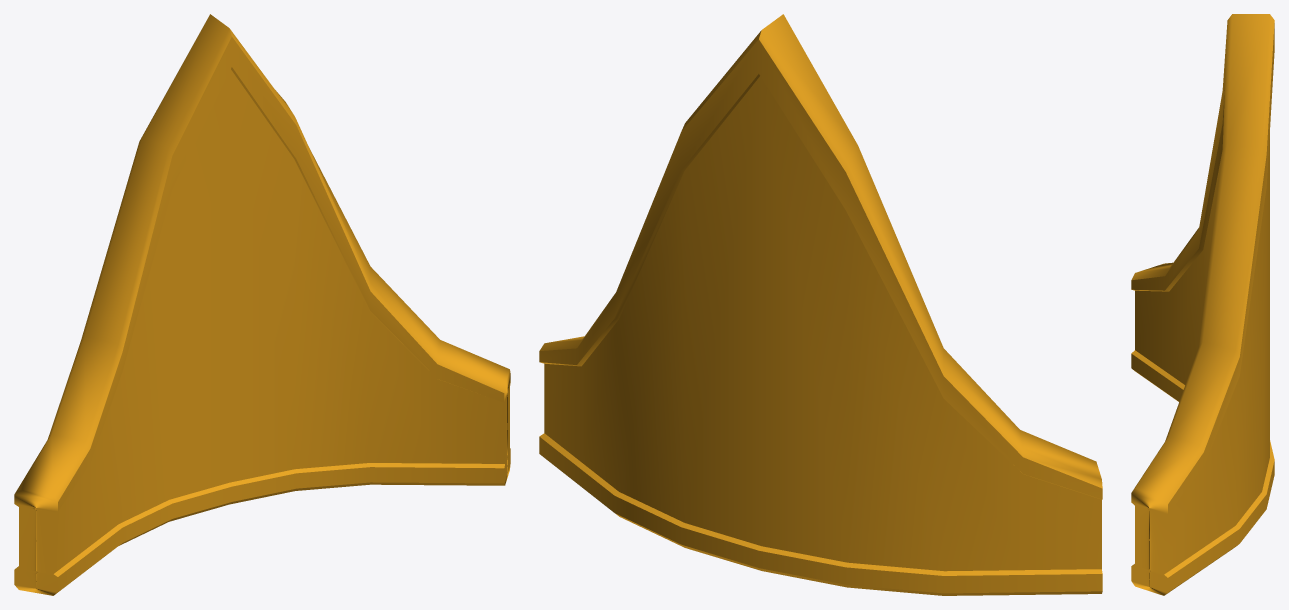
File: CrownPiece2.fbx
3 renders of one model, left to right at view 1: azimuth 30°, elevation 25°; view 2: azimuth 150°, elevation 25°; view 3: azimuth 270°, elevation 25°, orthographic. The views are drawn at different scales.
Visible parts, largest first — view 1: CrownPiece2; view 2: CrownPiece2; view 3: CrownPiece2.
Part boxes in pixels (left/top/right/bottom): CrownPiece2: left=14, top=14, right=510, bottom=595; CrownPiece2: left=539, top=14, right=1102, bottom=595; CrownPiece2: left=1131, top=14, right=1274, bottom=595.
Size of the model in its own units: 118 by 109 by 30.37.
